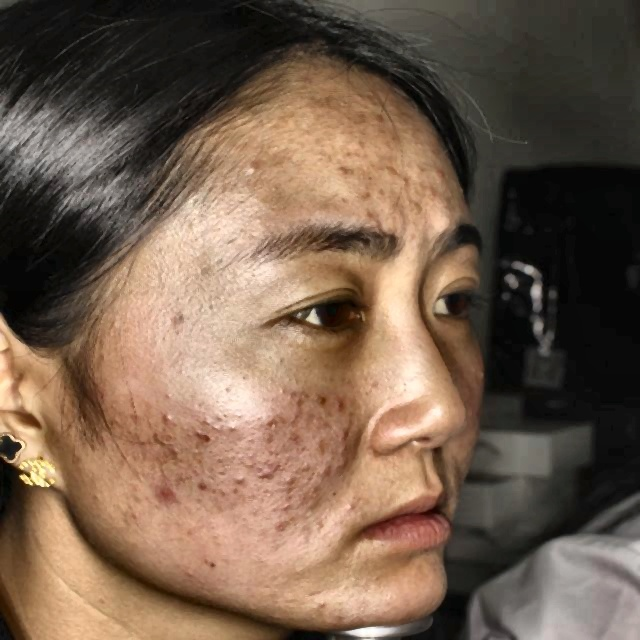papule: (158, 475, 186, 506), (328, 427, 358, 455), (402, 192, 426, 222), (358, 184, 399, 201), (305, 484, 333, 506), (265, 515, 297, 533), (271, 464, 292, 491), (371, 114, 393, 139), (332, 386, 354, 410), (314, 459, 347, 475), (333, 160, 355, 182), (196, 425, 221, 444), (384, 160, 406, 181), (253, 455, 273, 475), (360, 214, 380, 232), (423, 180, 438, 202), (424, 164, 445, 177)
